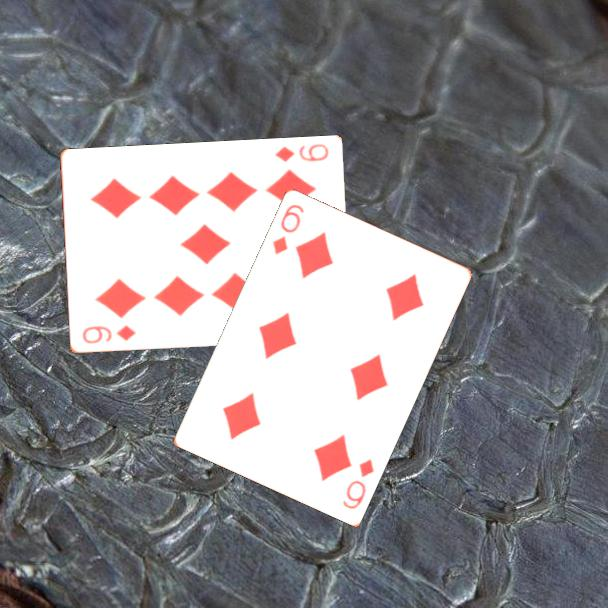d06: (269, 200, 307, 257), (339, 455, 377, 512)
d09: (79, 322, 138, 347), (271, 141, 331, 165)
